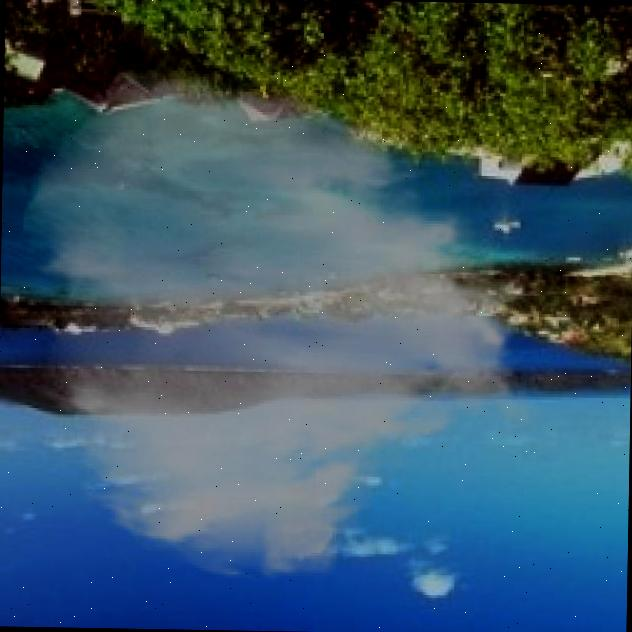smoke: (11, 62, 549, 588)
